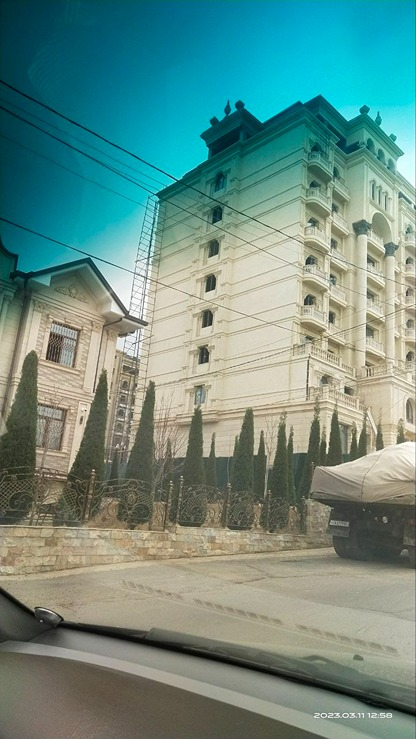tree: (0, 358, 58, 517), (64, 369, 129, 510), (117, 383, 167, 525), (224, 403, 272, 535), (169, 397, 212, 527), (269, 415, 314, 537)
